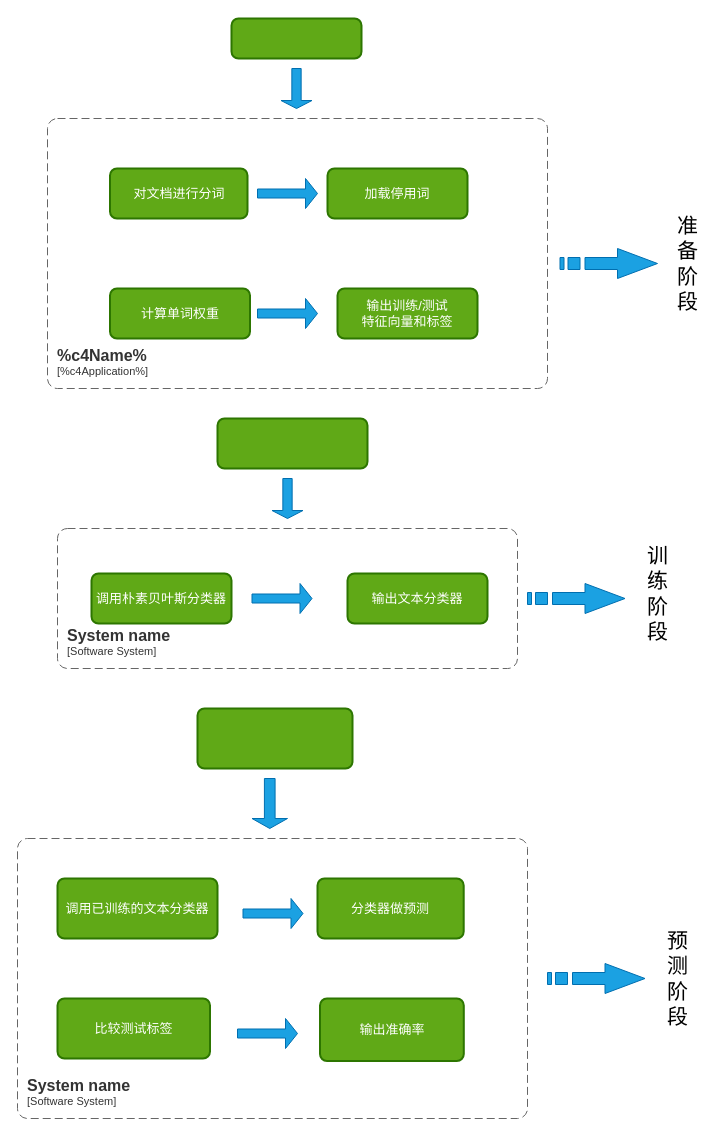
Image size: 725x1136. Some labels were removed from this diagram. Each missing label, with the centre of its shape:
"文档输入" belongs at point 296,38.
"训练特征向量+标签输入" belongs at point 292,443.
"输入测试特征向量" belongs at point 274,738.
